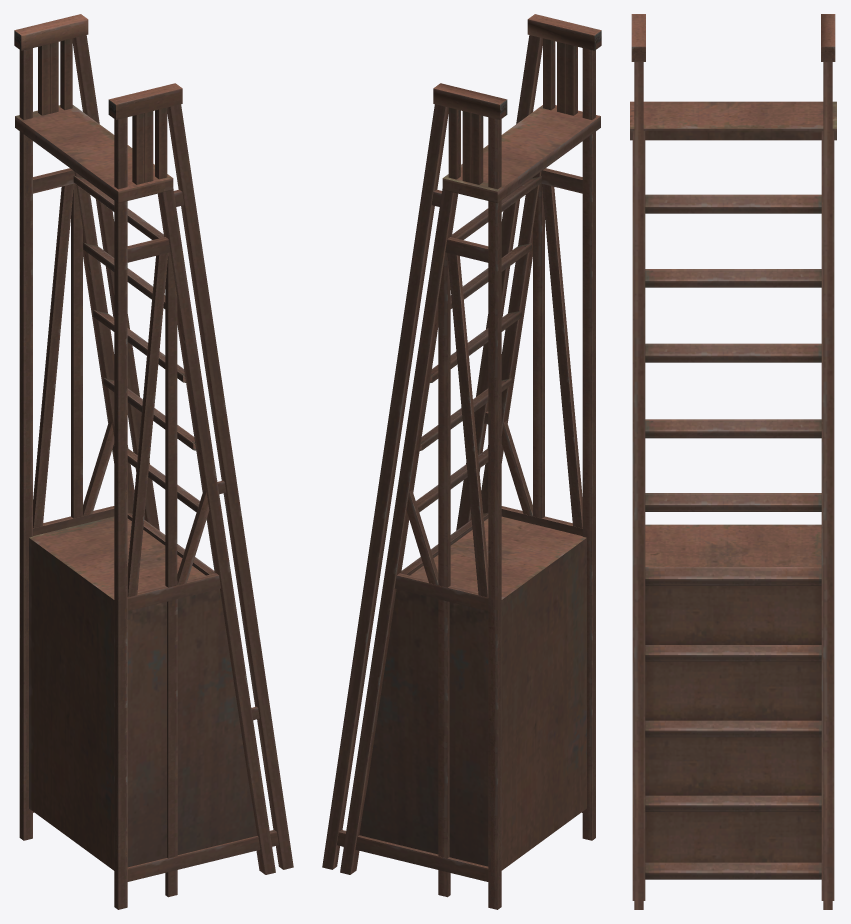
File: bg_lut_lucastle_libraryprop04_sm_artree.FBX
3 views of the same model, side by side, from view 1: azimuth 30°, elevation 25°; view 2: azimuth 150°, elevation 25°; view 3: azimuth 270°, elevation 25° (orthographic).
Parts seen in each view (by area): view 1: bg_lut_lucastle_libraryprop04_sm_artree; view 2: bg_lut_lucastle_libraryprop04_sm_artree; view 3: bg_lut_lucastle_libraryprop04_sm_artree.
Part boxes in pixels (x1,y1,x2,y2): bg_lut_lucastle_libraryprop04_sm_artree: (14,14,293,909); bg_lut_lucastle_libraryprop04_sm_artree: (322,14,601,909); bg_lut_lucastle_libraryprop04_sm_artree: (630,14,836,909).
Size of the model in its own units: 77.98 by 336 by 77.9.
